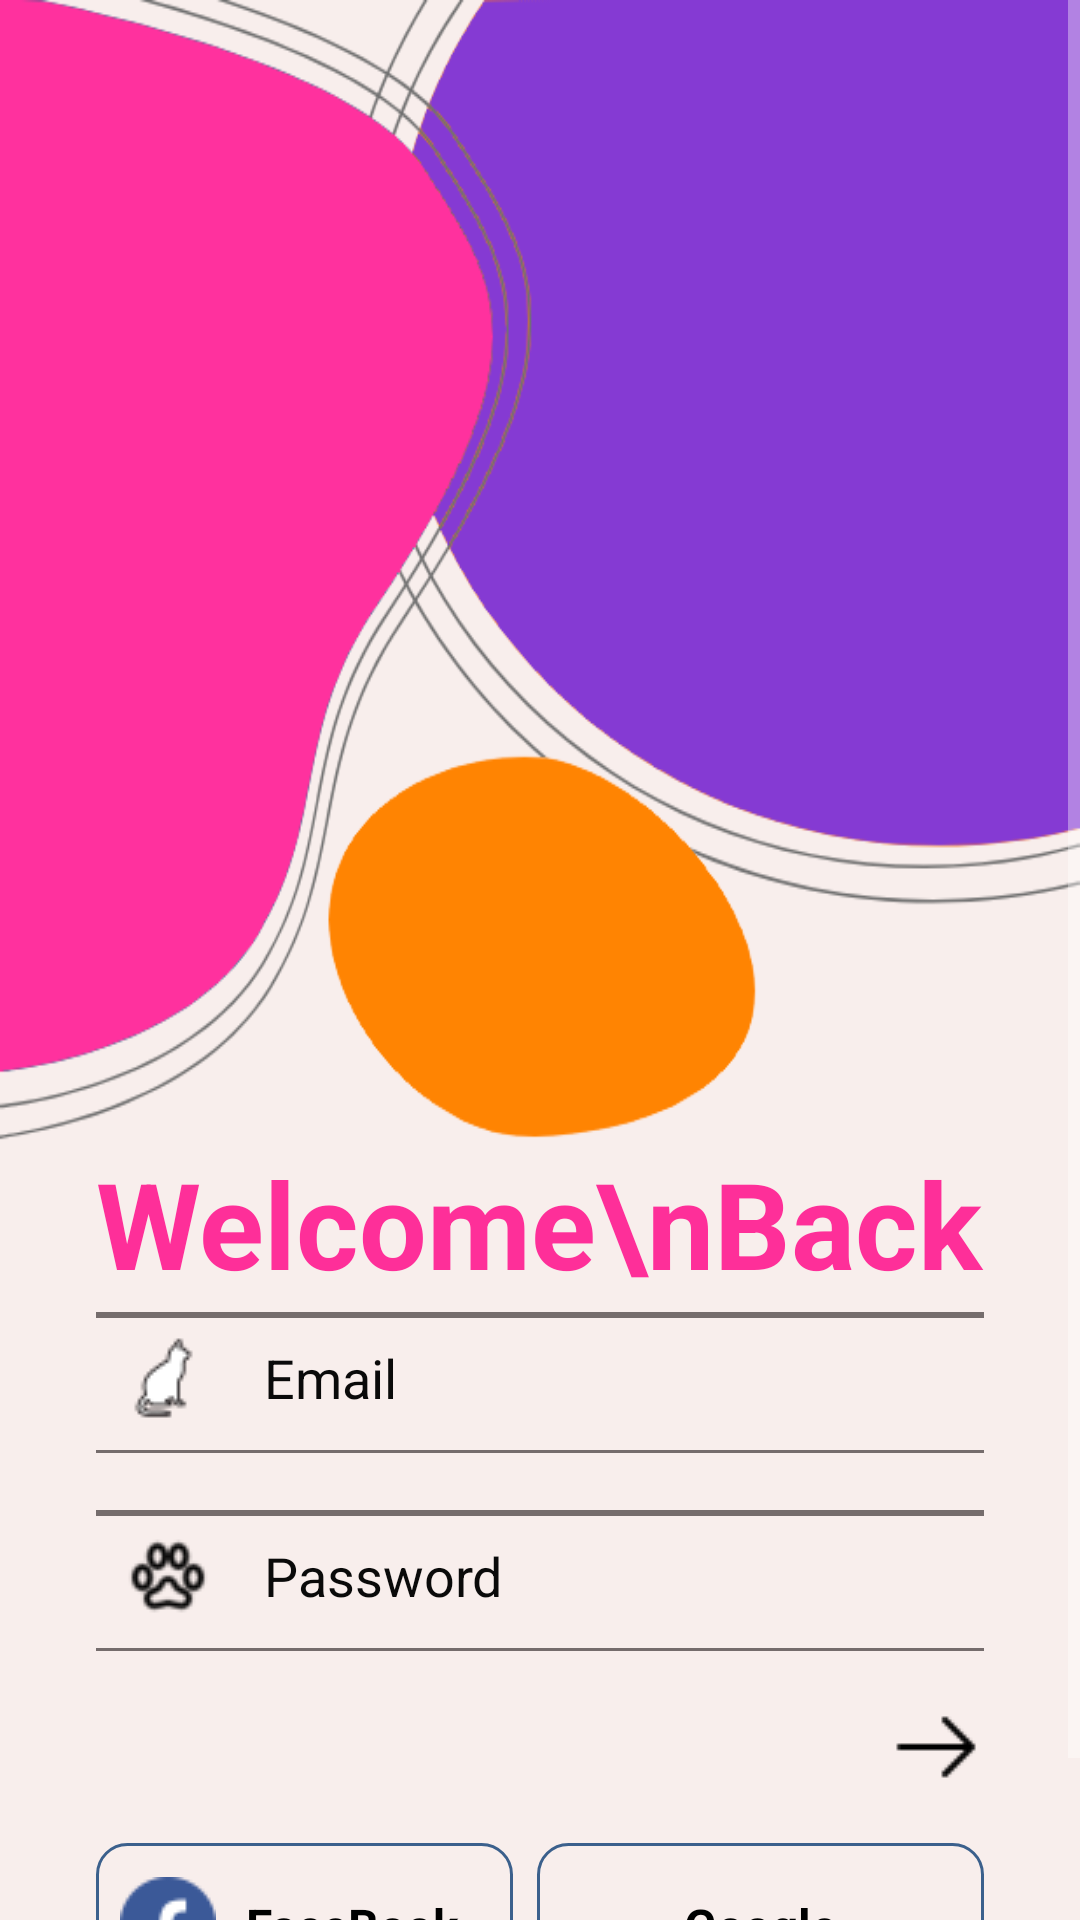

Where icons sit on this 1080*1920 app screen, as bbox(x1, y1, x2, y2):
faviconarrow: bbox(896, 1716, 976, 1778)
